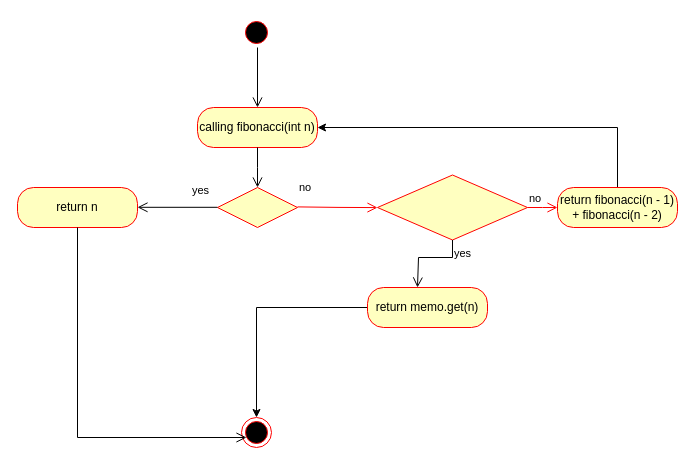
This 695x466 diagram has some shape labels left out. The shapes that lost their labels are listed below. From the top down, each one's centre as x and y in pixels, then its label:
At (257,207): "if n<=1".
At (452,207): "memo.containsKey(n)".
